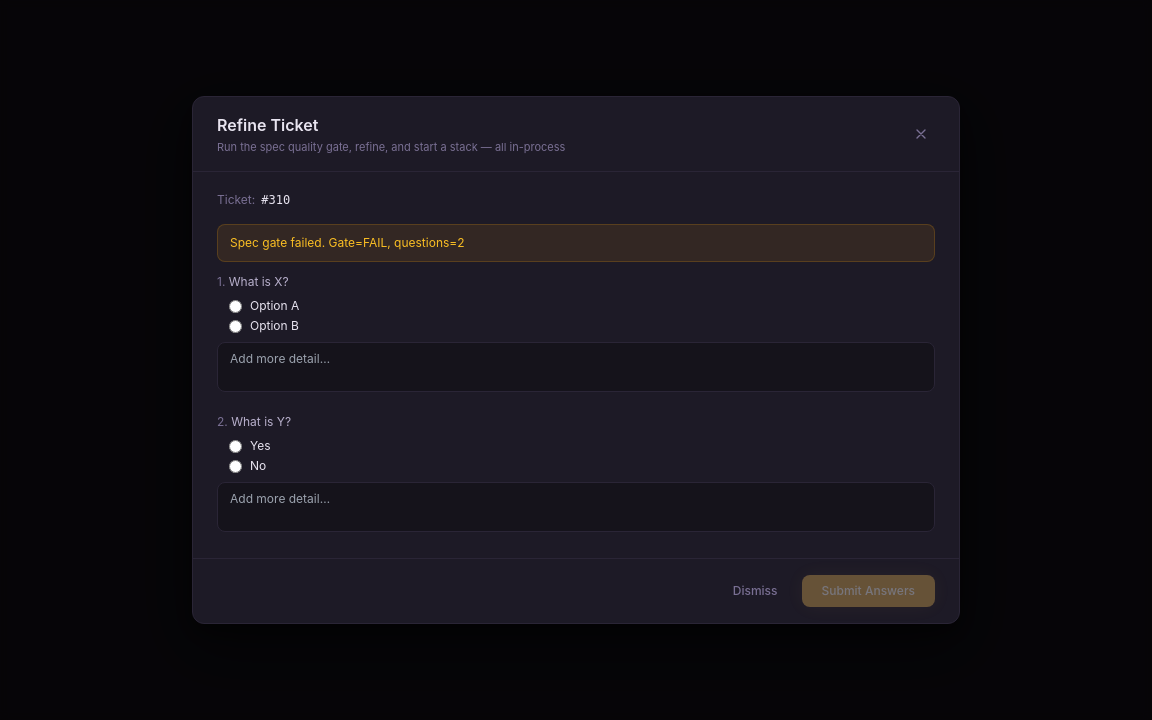
Scenario: RefineTicketDialog › submit is enabled when an option is selected (no text required)
The image size is (1152, 720).
Expected: the button with test id "refine-submit-answers" is disabled, left=802, top=575, right=935, bottom=607
# Select one option for q1 — submit still disabled (q2 unanswered)
Step 1. Click the radio button with test id "refine-option-0-a" → (236, 306), box left=229, top=300, right=242, bottom=313
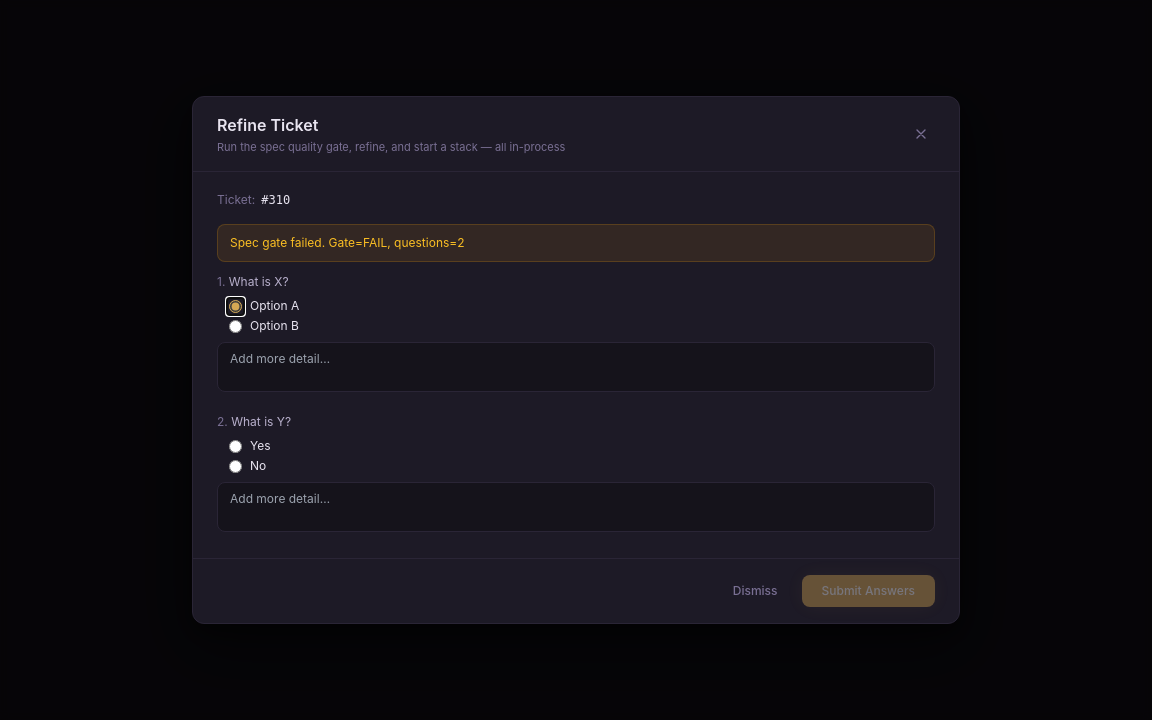
Expected: the button with test id "refine-submit-answers" is disabled, left=802, top=575, right=935, bottom=607
# Select one option for q2 — now both answered, submit enabled
Step 2. Click the radio button with test id "refine-option-1-a" → (236, 446), box left=229, top=440, right=242, bottom=453
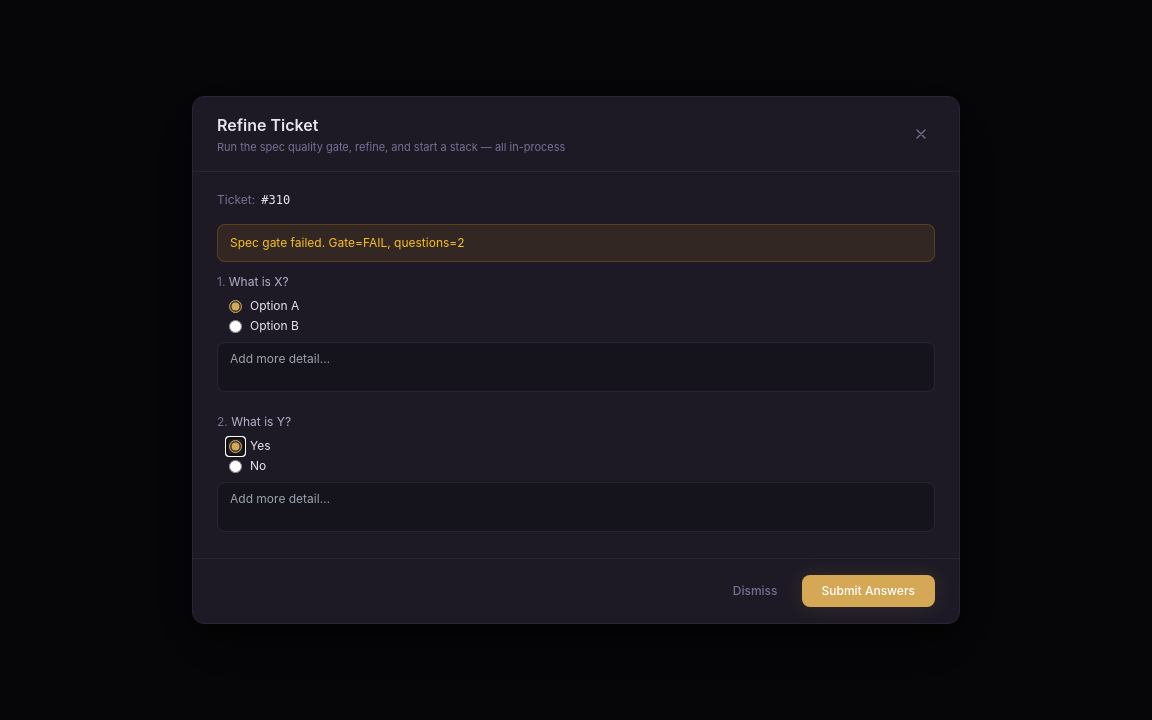
Expected: the button with test id "refine-submit-answers" is enabled, left=802, top=575, right=935, bottom=607
